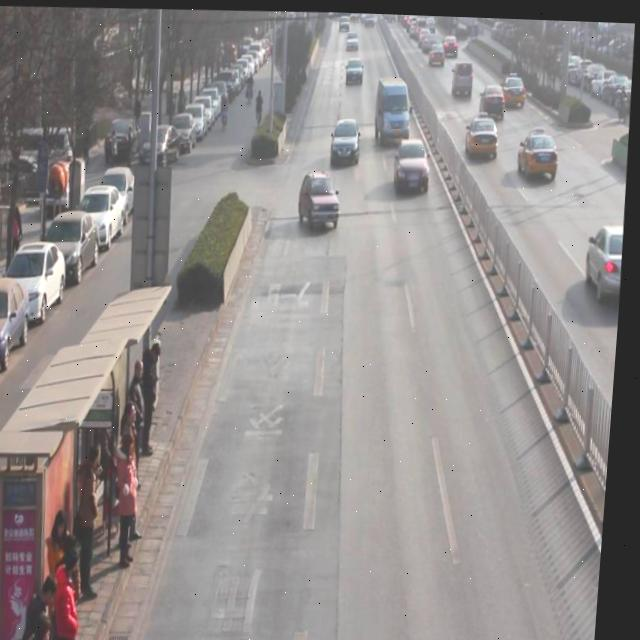car: (588, 218, 627, 298), (299, 168, 345, 229), (518, 121, 563, 180), (395, 135, 434, 194), (466, 107, 502, 158), (331, 115, 365, 166), (480, 81, 508, 117), (502, 67, 528, 104), (452, 58, 476, 96), (346, 55, 365, 84), (429, 36, 447, 64), (444, 30, 460, 54), (347, 28, 360, 50)
truck: (376, 74, 415, 142)
